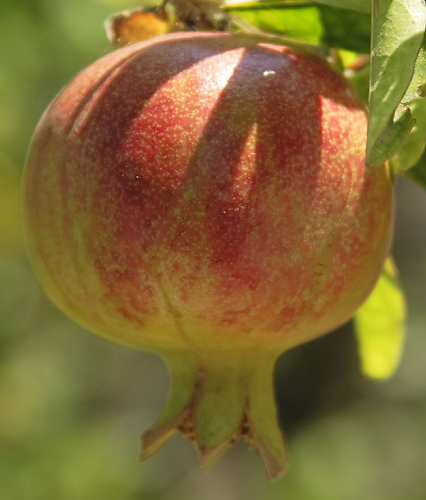pomogranate: (21, 30, 395, 481)
